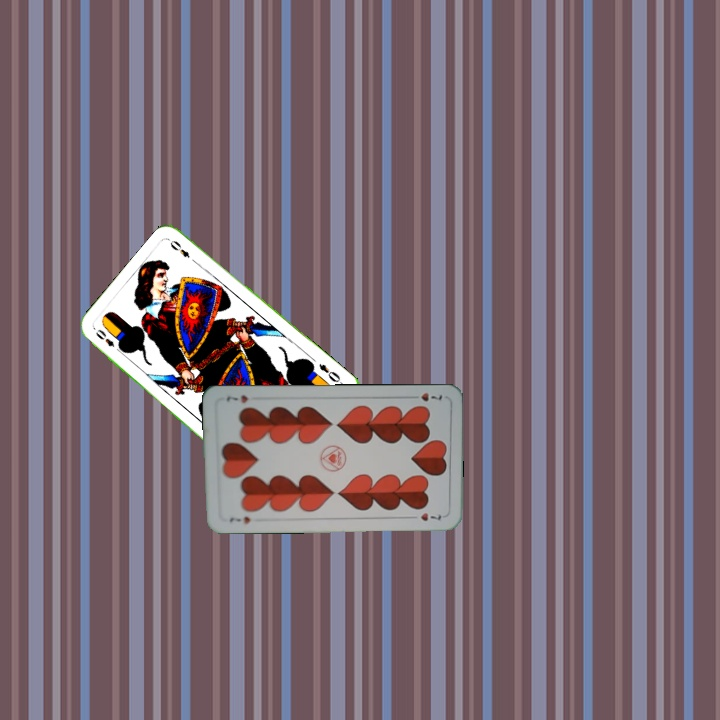EO: (92, 325, 125, 356), (315, 359, 345, 387)
H7: (406, 388, 446, 404), (226, 512, 252, 526)
